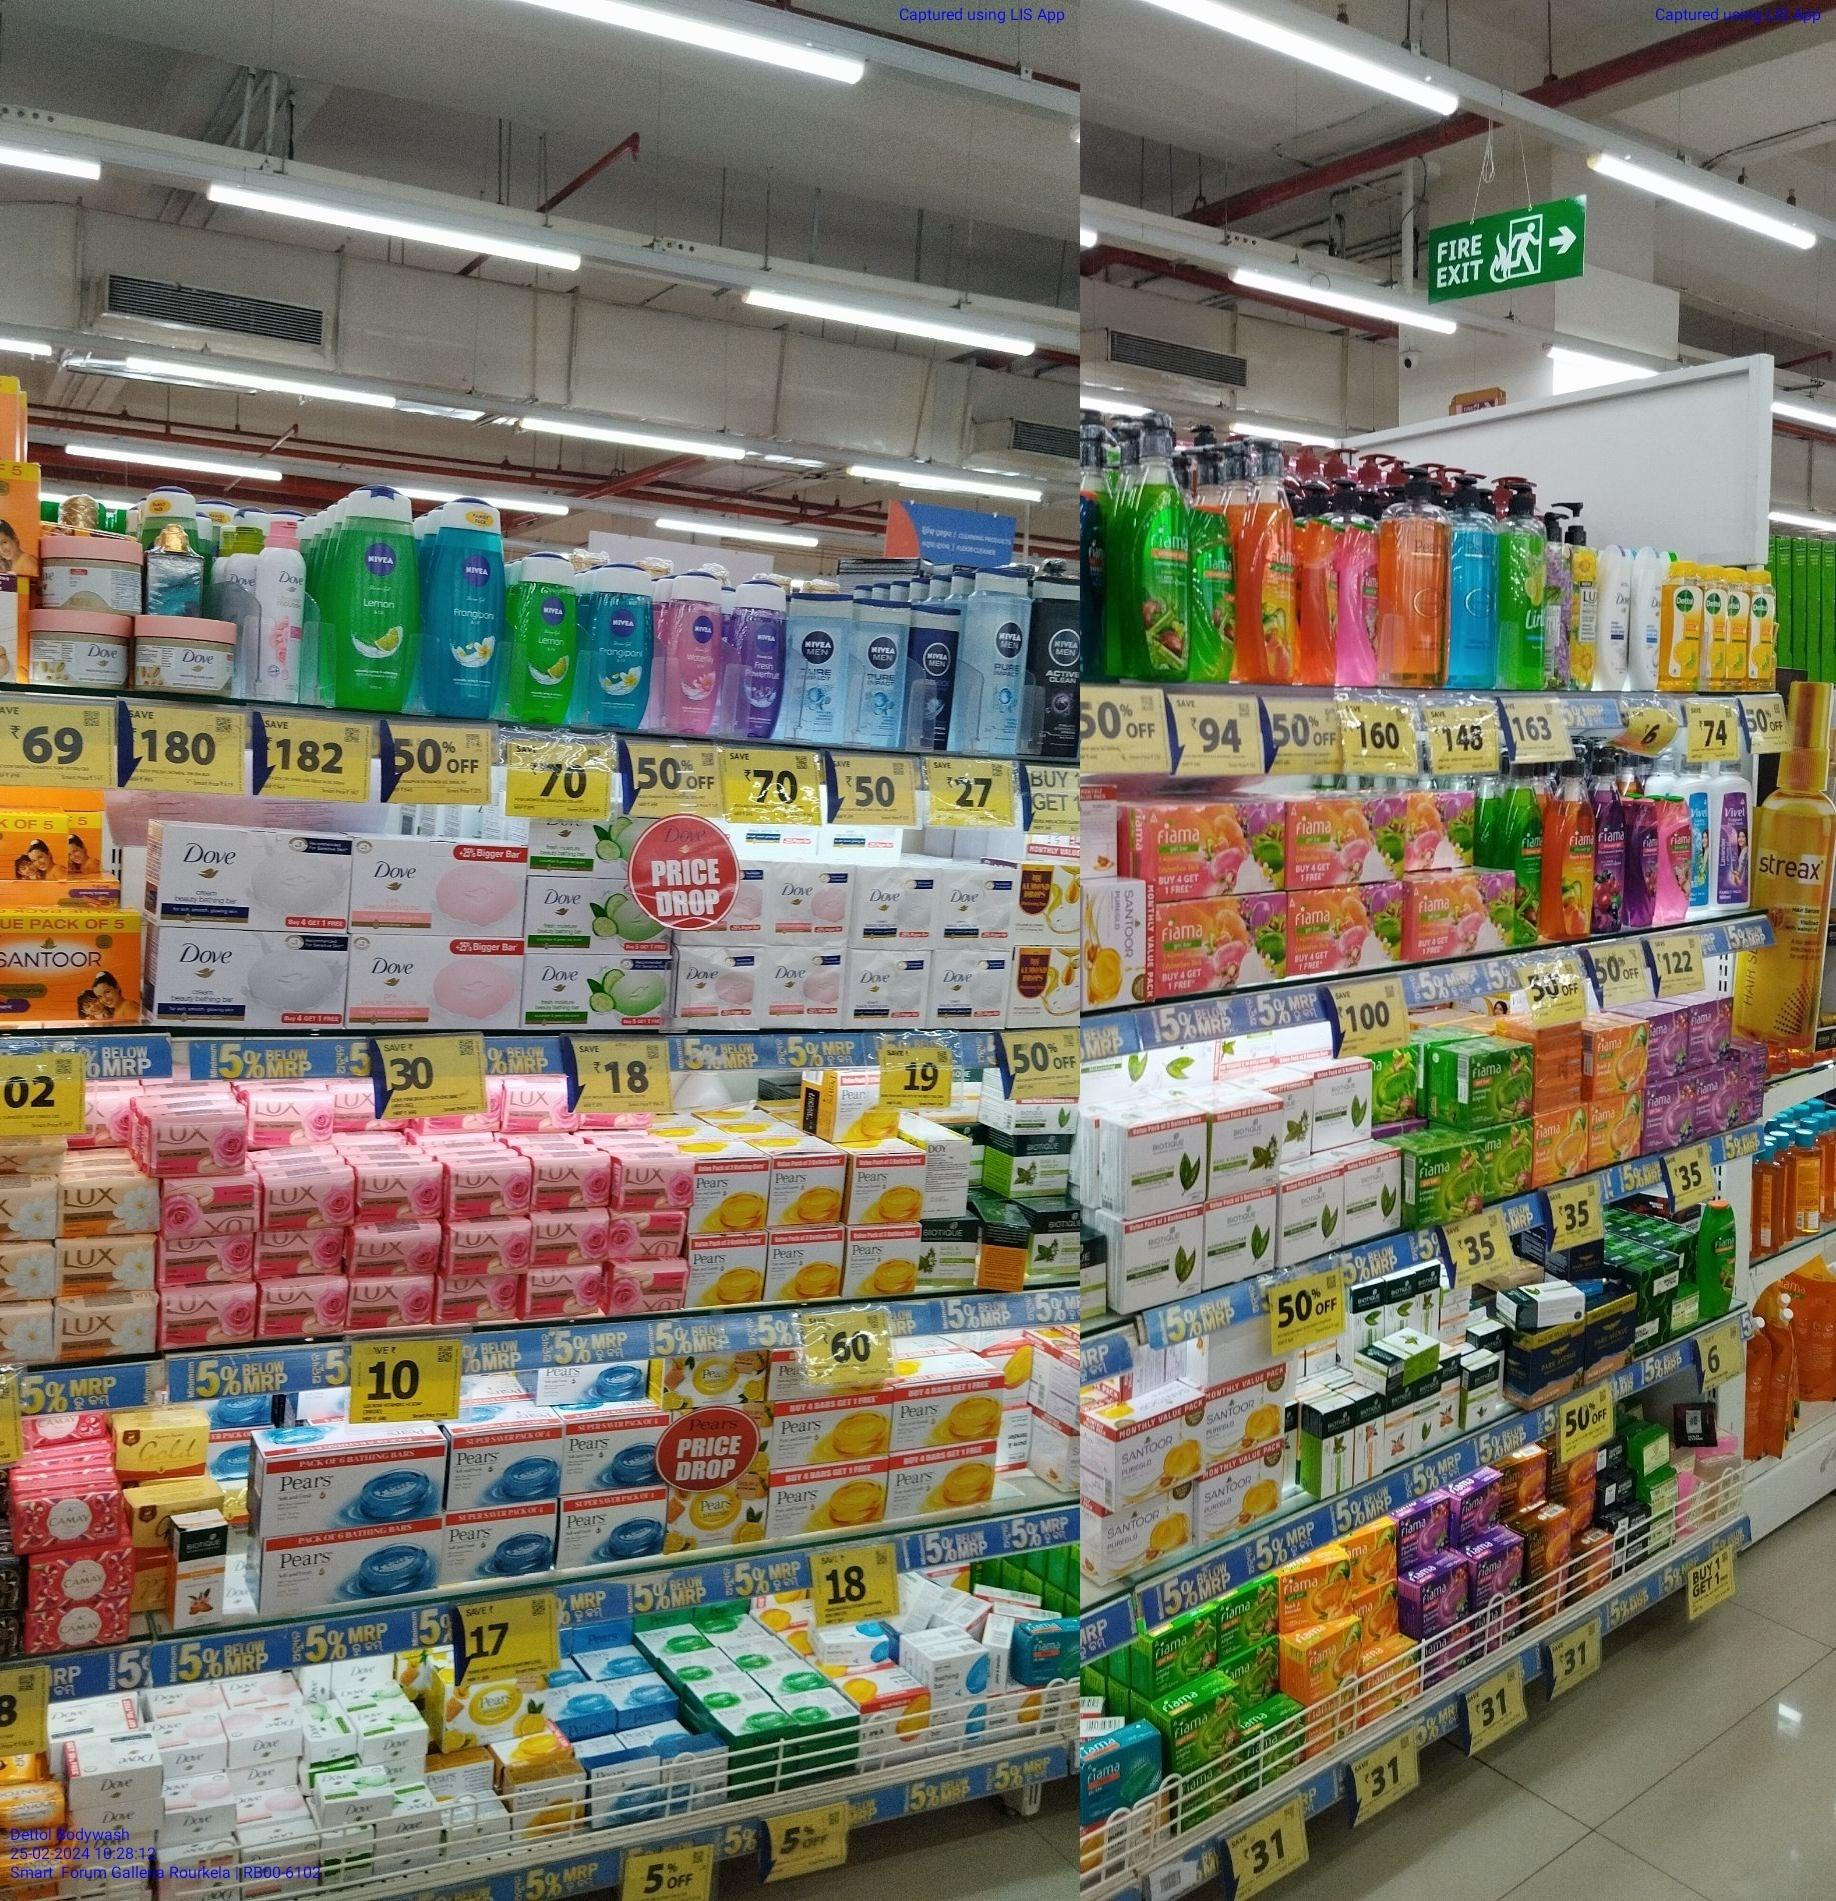Dettol_Bodywash_Refresh: (1666, 562, 1702, 689), (1749, 569, 1777, 693), (1704, 565, 1727, 693), (1727, 567, 1748, 691)
Fiama_Shower_Gel_Patchouli_and_Macadamia_250ML: (1660, 799, 1695, 925)
Nivea_Shower_Gel_Frangipani_and_Oil_250ML: (434, 501, 506, 720), (591, 565, 650, 730)
Nivea_Shower_Gel_Fresh_Powerfruit_250ML: (740, 589, 791, 737)
Nivea_Shower_Gel_Lemon_and_Oil_250ML: (343, 485, 417, 711), (514, 555, 579, 725)
Nivea_Shower_Gel_Waterlily_and_Oil_250ML: (667, 572, 723, 732)
